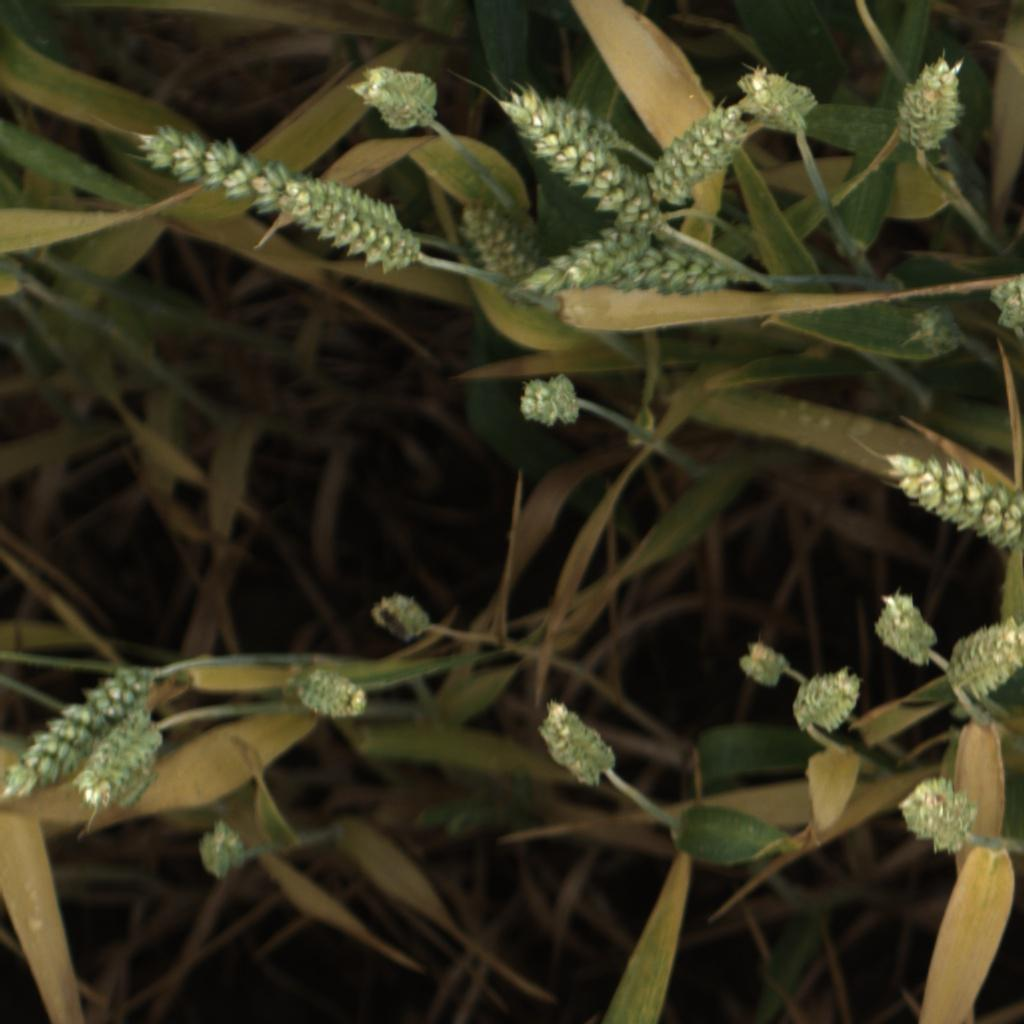0-0: (498, 85, 671, 240), (1, 661, 151, 803), (876, 443, 1024, 554), (280, 169, 420, 276), (135, 119, 286, 217), (643, 103, 750, 220), (516, 226, 661, 298), (888, 50, 978, 161), (73, 712, 168, 813), (532, 694, 621, 793), (346, 57, 445, 139), (896, 770, 984, 862), (455, 195, 540, 290), (942, 613, 1024, 708), (610, 243, 740, 298), (868, 585, 946, 674), (734, 56, 822, 134), (785, 661, 871, 735), (538, 94, 630, 154), (511, 365, 585, 434), (292, 662, 370, 725), (896, 299, 967, 363), (191, 819, 255, 882), (367, 588, 436, 645), (735, 638, 793, 690), (983, 271, 1024, 343)
